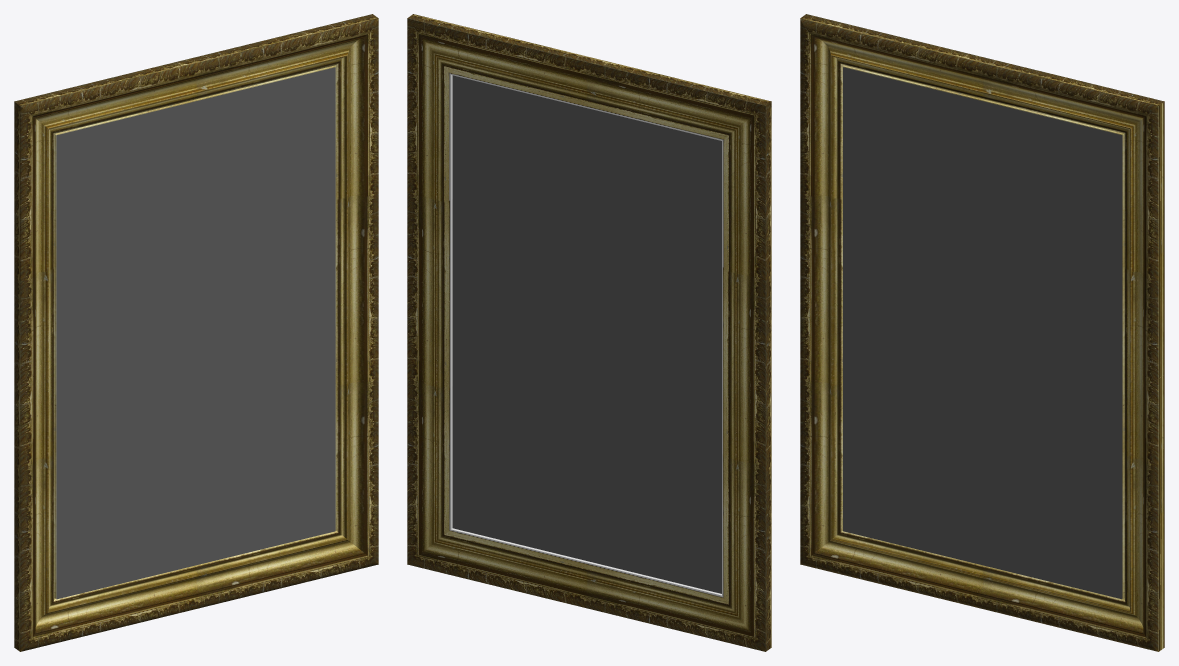
File: frame22_V03.dae
3 views of the same model, side by side, from view 1: azimuth 30°, elevation 25°; view 2: azimuth 150°, elevation 25°; view 3: azimuth 330°, elevation 25° (orthographic).
Parts seen in each view (by area): view 1: PLANE, FRAME; view 2: PLANE, FRAME; view 3: PLANE, FRAME.
Boxes of the visible parts, <box> form: PLANE: <box>56,67,335,599</box>; FRAME: <box>14,14,378,651</box>; PLANE: <box>452,75,721,593</box>; FRAME: <box>407,14,771,651</box>; PLANE: <box>843,67,1122,599</box>; FRAME: <box>800,14,1164,651</box>.
Size of the model in its own units: 0.6548 by 0.9526 by 0.0232.
